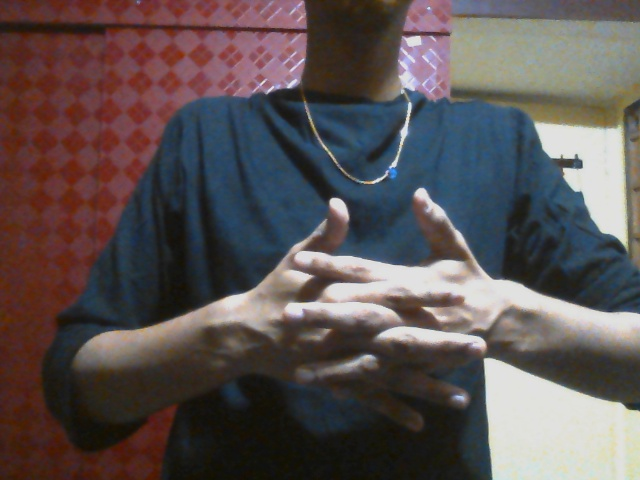W: (258, 186, 503, 434)
